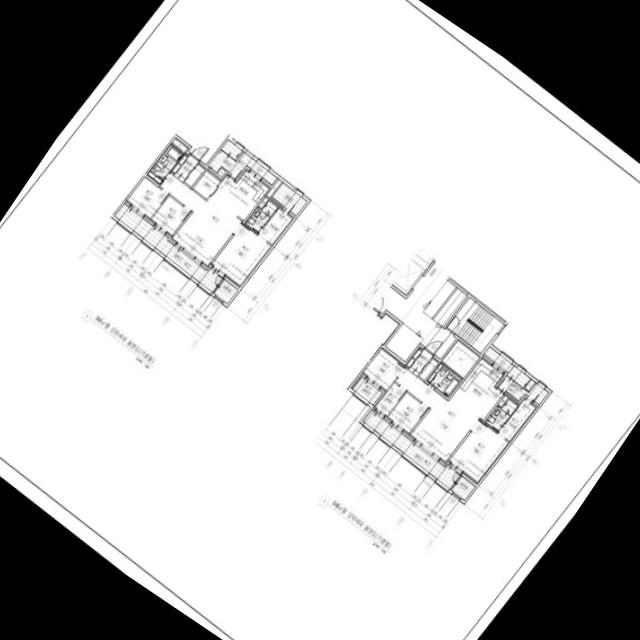background: (0, 0, 640, 640)
space_balconi: (114, 204, 223, 292), (363, 410, 460, 489), (484, 347, 548, 404), (208, 140, 277, 185), (272, 182, 306, 215), (352, 377, 382, 404)
space_bedroom: (448, 420, 509, 483), (211, 224, 271, 287), (362, 348, 405, 391), (126, 177, 168, 219), (387, 392, 427, 434), (150, 196, 190, 236)
space_dressroom: (498, 397, 537, 441), (258, 208, 293, 245)
space_elevator: (392, 257, 427, 295), (414, 248, 434, 267)
space_elevator_hall: (374, 264, 456, 358)
space_front: (171, 153, 205, 187), (405, 347, 438, 380)
space_kitchen: (452, 357, 505, 420), (211, 169, 270, 220)
space_living_room: (395, 368, 478, 463), (160, 173, 241, 267)
space_other: (442, 339, 479, 378), (385, 323, 422, 361), (433, 288, 467, 327), (423, 280, 455, 318), (373, 383, 405, 417), (193, 169, 221, 199), (266, 179, 282, 198), (171, 138, 188, 153), (258, 197, 268, 208), (525, 379, 535, 390), (498, 396, 508, 406), (217, 168, 225, 176)
space_outdoor_room: (451, 476, 475, 500), (213, 279, 237, 303)
space_staircase: (446, 297, 503, 353)
space_toilet: (147, 145, 182, 183), (427, 363, 461, 397), (485, 399, 517, 431), (245, 201, 277, 232)
